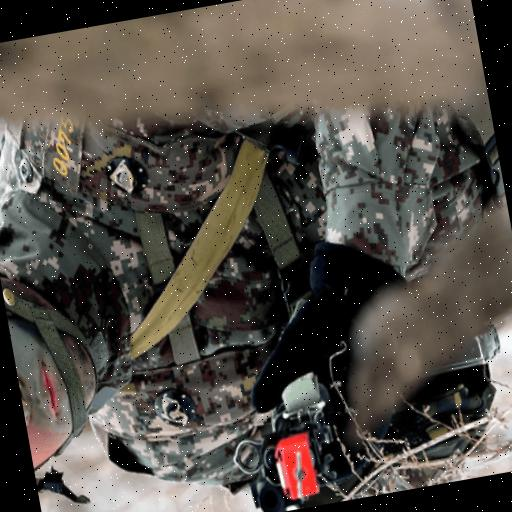korea army: (0, 55, 512, 512)
